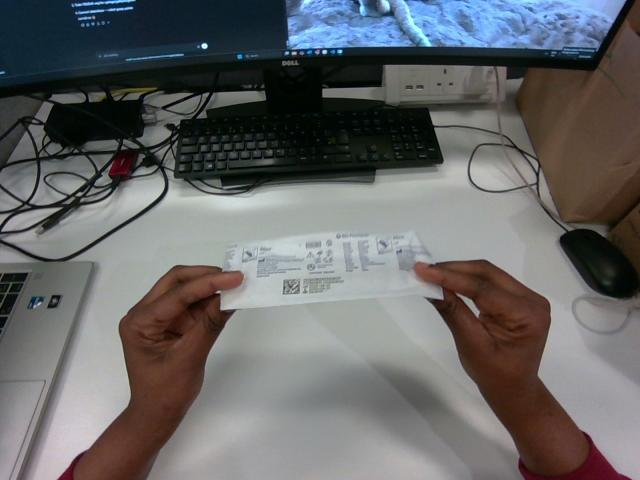syringe: (221, 231, 442, 309)
